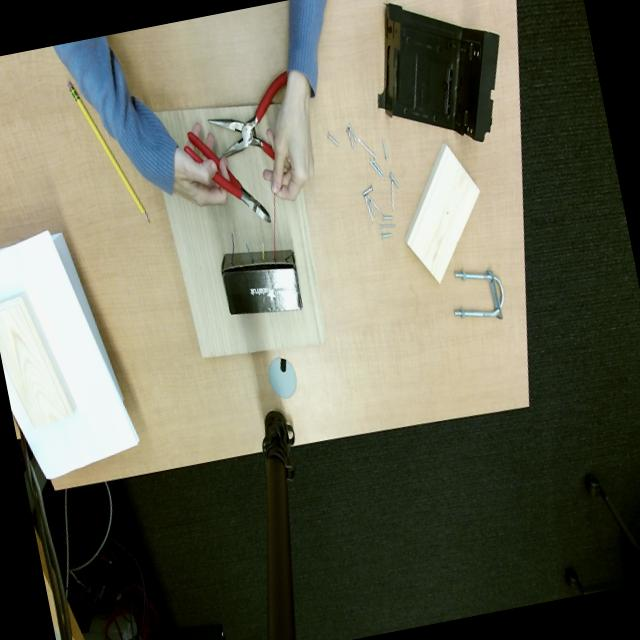pliers: (188, 132, 271, 223), (209, 71, 288, 157), (185, 146, 202, 164)
